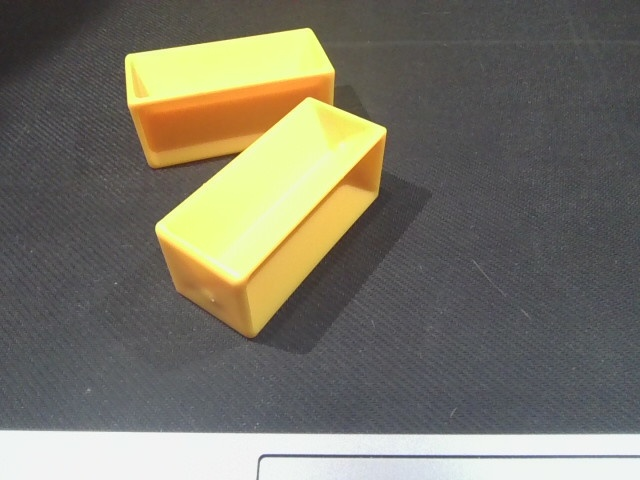YellowSample: (144, 95, 406, 341), (120, 23, 345, 171)
